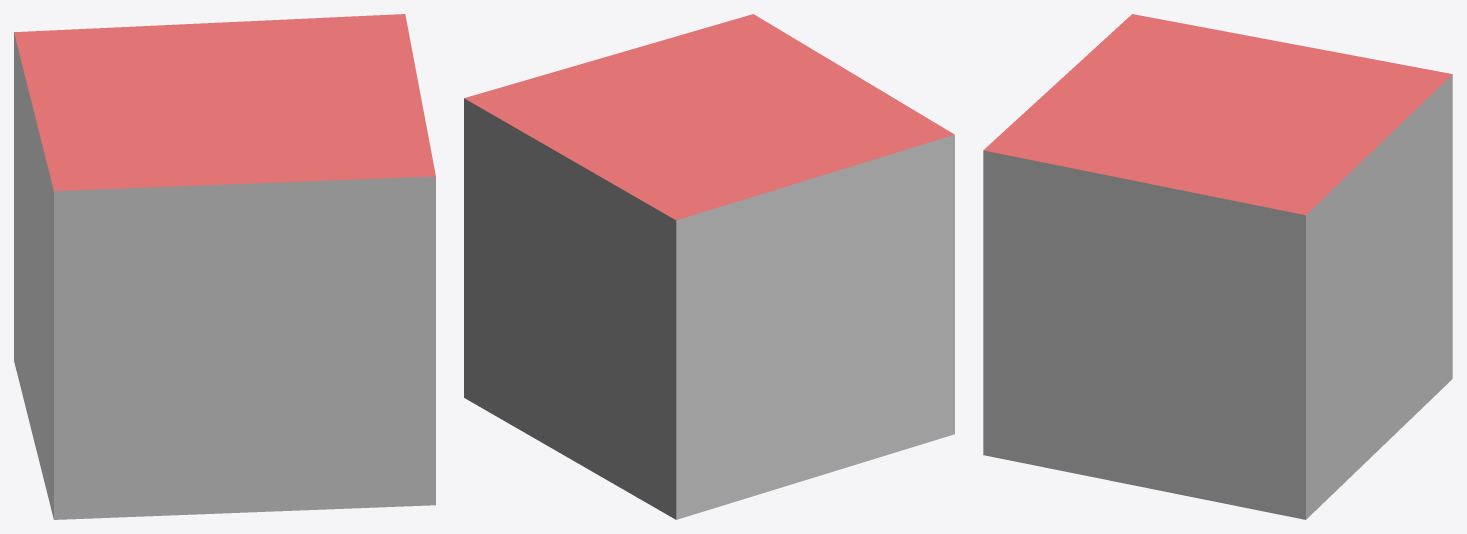
The model's file is DEBY_LOD2_4908156.gltf.
3 renders of one model, left to right at view 1: azimuth 30°, elevation 25°; view 2: azimuth 150°, elevation 25°; view 3: azimuth 270°, elevation 25°, orthographic. The views are drawn at different scales.
Visible parts, largest first — view 1: Z_UP; view 2: Z_UP; view 3: Z_UP.
Boxes of the visible parts, x1=… form: Z_UP: x1=14, y1=14, x2=435, y2=519; Z_UP: x1=464, y1=14, x2=954, y2=519; Z_UP: x1=983, y1=14, x2=1452, y2=519.
Size of the model in its own units: 4.25 by 3 by 4.19.
